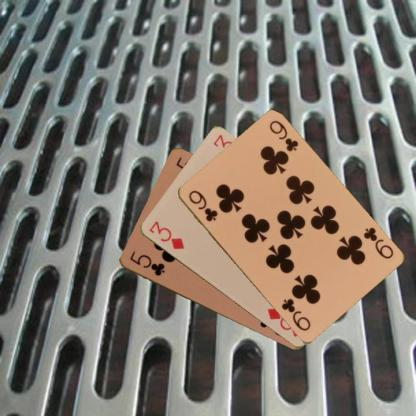3d: (146, 218, 186, 251)
5c: (126, 248, 166, 278)
9c: (360, 224, 395, 261), (185, 187, 219, 223)
